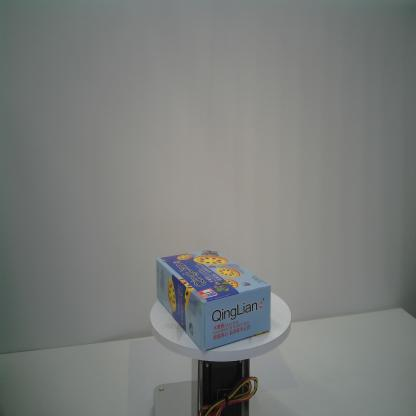Dessert: (156, 249, 272, 352)
